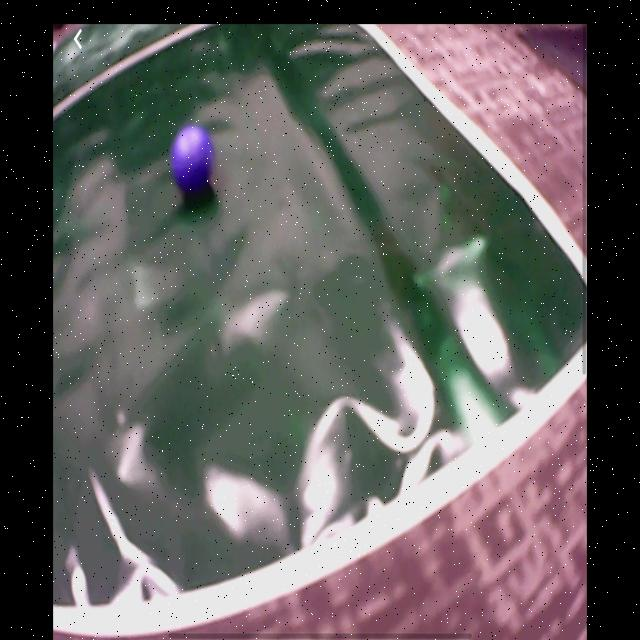ball: (168, 124, 217, 195)
